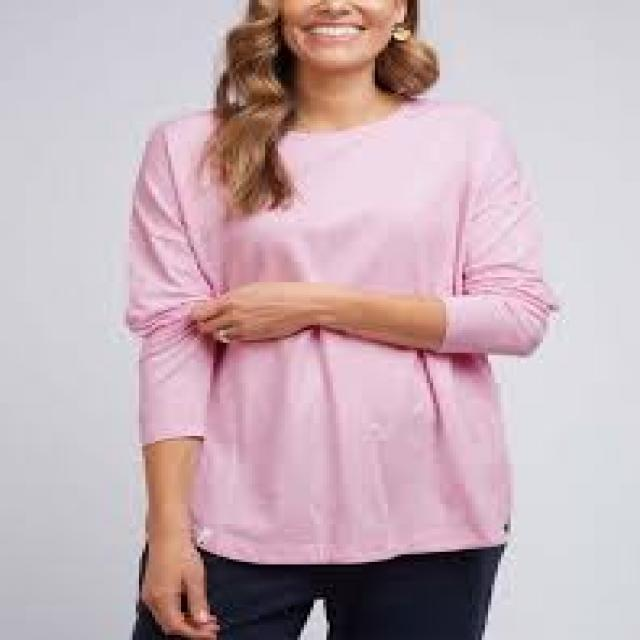plain: (128, 96, 564, 570)
